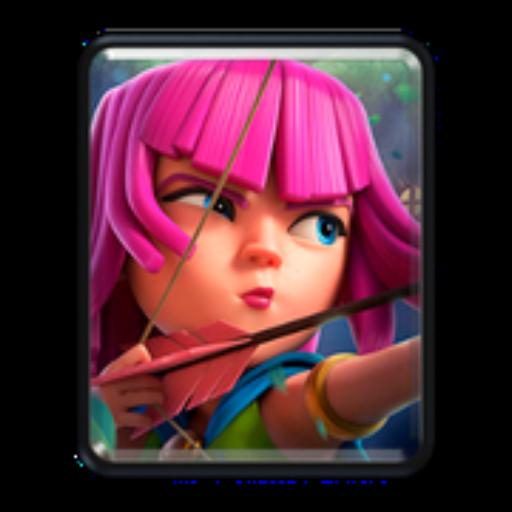archers: (94, 60, 412, 458)
